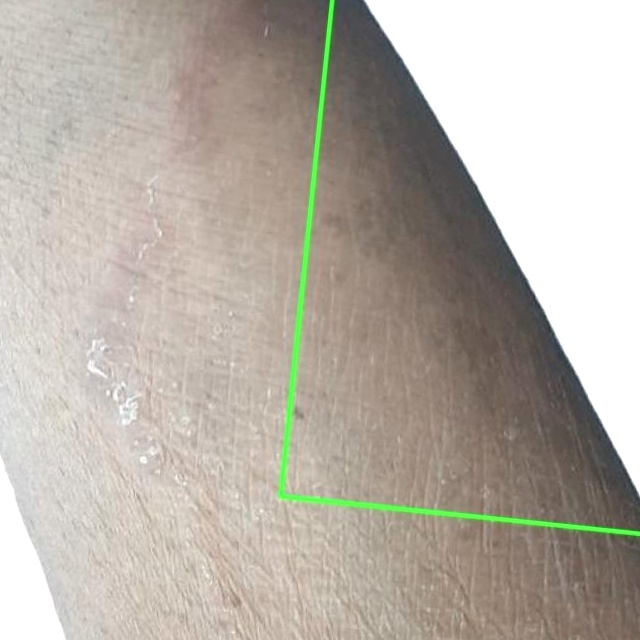Tinea Corporis: (280, 0, 639, 533)
